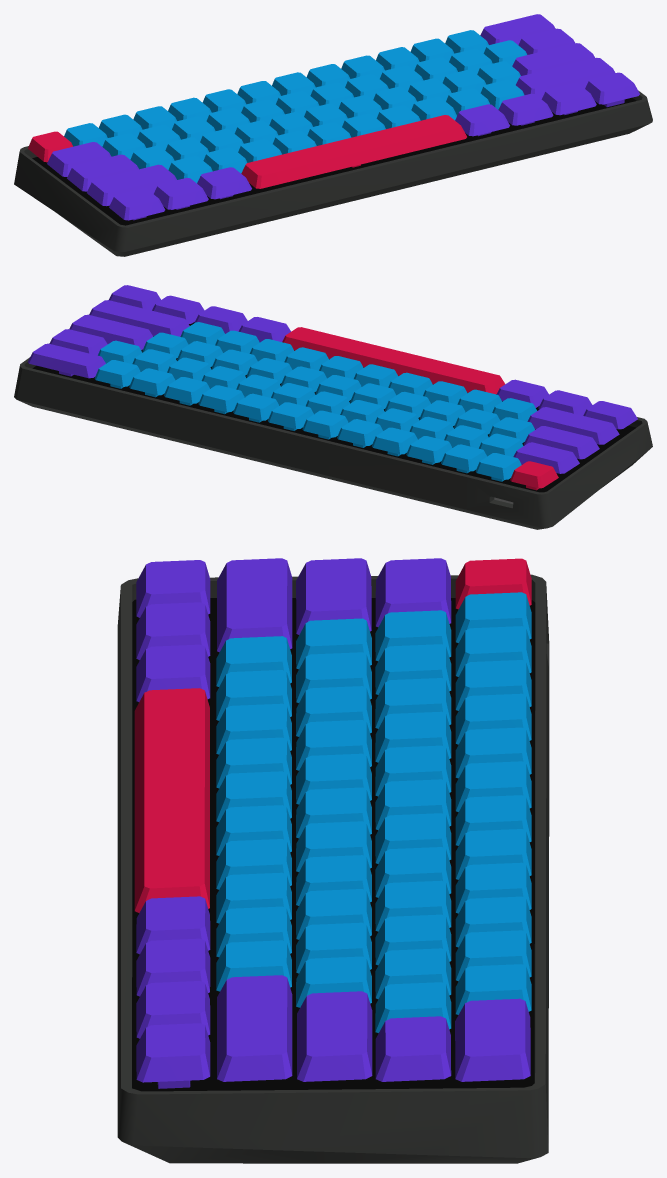
The model's file is keyboard.dae.
3 views of the same model, one above another, from view 1: azimuth 30°, elevation 25°; view 2: azimuth 150°, elevation 25°; view 3: azimuth 270°, elevation 25° (orthographic). The views are drawn at different scales.
Visible parts, largest first — view 1: Cube, Cube.061, Cube.056, Cube.055, Cube.057, Cube.060, Cube.059, Cube.048, Cube.050, Cube.049, Cube.053, Cube.052 (+50 smaller); view 2: Cube, Cube.061, Cube.056, Cube.055, Cube.059, Cube.057, Cube.060, Cube.013, Cube.001, Cube.058, Cube.048, Cube.005 (+50 smaller); view 3: Cube, Cube.061, Cube.056, Cube.057, Cube.059, Cube.055, Cube.058, Cube.060, Cube.054, Cube.013, Cube.050, Cube.049 (+50 smaller).
Boxes of the visible parts, left/top/right/bottom form: Cube: left=14, top=90, right=652, bottom=256; Cube.061: left=241, top=115, right=466, bottom=188; Cube.056: left=516, top=57, right=615, bottom=98; Cube.055: left=87, top=164, right=176, bottom=206; Cube.057: left=512, top=43, right=594, bottom=75; Cube.060: left=67, top=154, right=138, bottom=191; Cube.059: left=480, top=14, right=555, bottom=44; Cube.048: left=109, top=188, right=165, bottom=220; Cube.050: left=197, top=167, right=251, bottom=199; Cube.049: left=154, top=178, right=208, bottom=209; Cube.053: left=541, top=83, right=596, bottom=115; Cube.052: left=498, top=93, right=553, bottom=125; Cube: left=14, top=322, right=652, bottom=529; Cube.061: left=282, top=327, right=504, bottom=394; Cube.056: left=89, top=300, right=189, bottom=336; Cube.055: left=527, top=407, right=619, bottom=444; Cube.059: left=28, top=343, right=105, bottom=378; Cube.057: left=69, top=314, right=153, bottom=350; Cube.060: left=523, top=426, right=599, bottom=459; Cube.013: left=513, top=442, right=579, bottom=473; Cube.001: left=510, top=461, right=558, bottom=490; Cube.058: left=49, top=329, right=107, bottom=355; Cube.048: left=583, top=401, right=637, bottom=429; Cube.005: left=371, top=427, right=417, bottom=456; Cube: left=117, top=574, right=549, bottom=1163; Cube.061: left=134, top=688, right=209, bottom=912; Cube.056: left=217, top=975, right=292, bottom=1081; Cube.057: left=297, top=991, right=372, bottom=1081; Cube.059: left=455, top=998, right=530, bottom=1081; Cube.055: left=217, top=558, right=292, bottom=652; Cube.058: left=375, top=1016, right=451, bottom=1081; Cube.060: left=296, top=558, right=371, bottom=634; Cube.054: left=136, top=1023, right=210, bottom=1082; Cube.013: left=375, top=558, right=451, bottom=627; Cube.050: left=136, top=644, right=210, bottom=701; Cube.049: left=136, top=602, right=210, bottom=660.
Bounding box in the file's own units: 7.81 × 2.71 × 0.7274.
